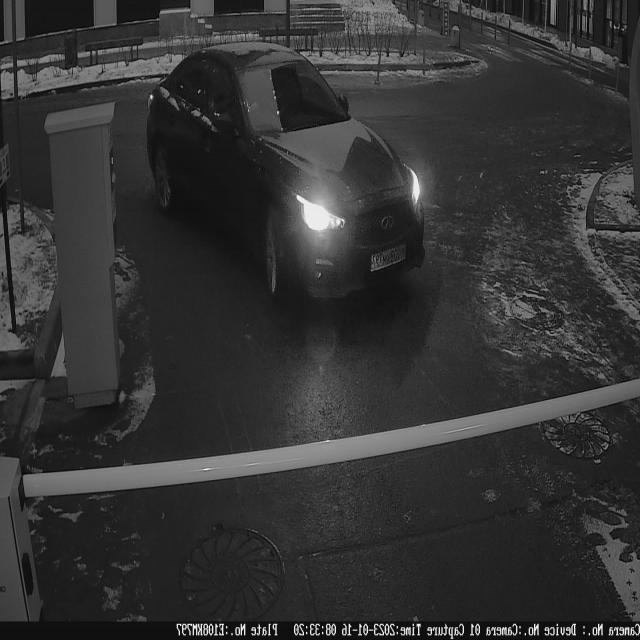car-plate-numbers: (369, 241, 411, 278)
